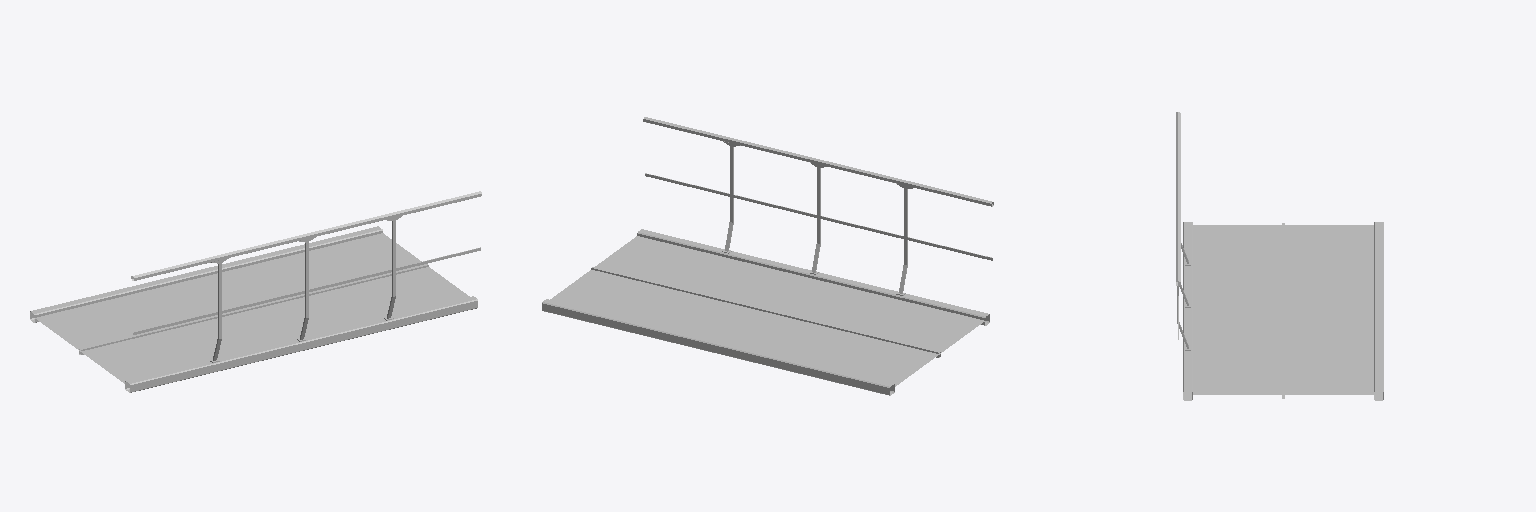
The model's file is catwalk_1.obj.
The picture shows the model from 3 angles: view 1: azimuth 30°, elevation 25°; view 2: azimuth 150°, elevation 25°; view 3: azimuth 270°, elevation 25°; orthographic projection.
Parts seen in each view (by area): view 1: catwalk_1, handrail_4; view 2: catwalk_1, handrail_4; view 3: catwalk_1, handrail_4.
Boxes of the visible parts, x1=… form: catwalk_1: x1=30, y1=226, x2=477, y2=392; handrail_4: x1=131, y1=191, x2=481, y2=362; catwalk_1: x1=542, y1=229, x2=989, y2=395; handrail_4: x1=643, y1=117, x2=993, y2=295; catwalk_1: x1=1183, y1=222, x2=1383, y2=400; handrail_4: x1=1176, y1=112, x2=1190, y2=350.
Size of the model in its own units: 4 by 1.31 by 2.08.